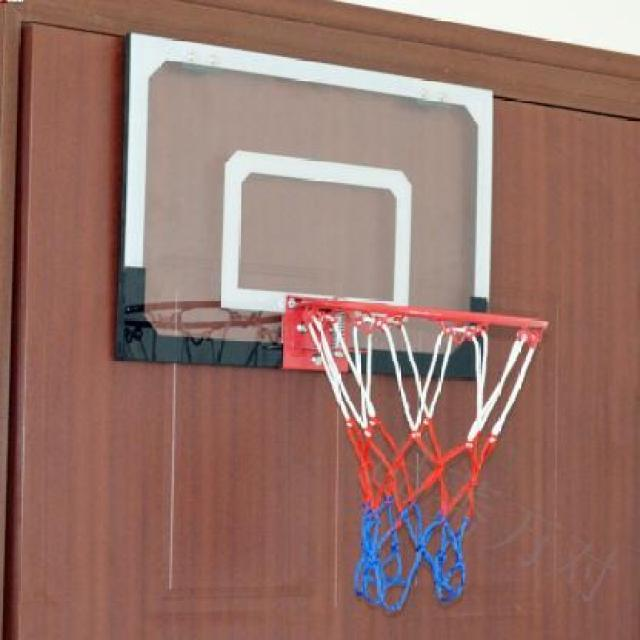rim: (304, 299, 550, 613)
